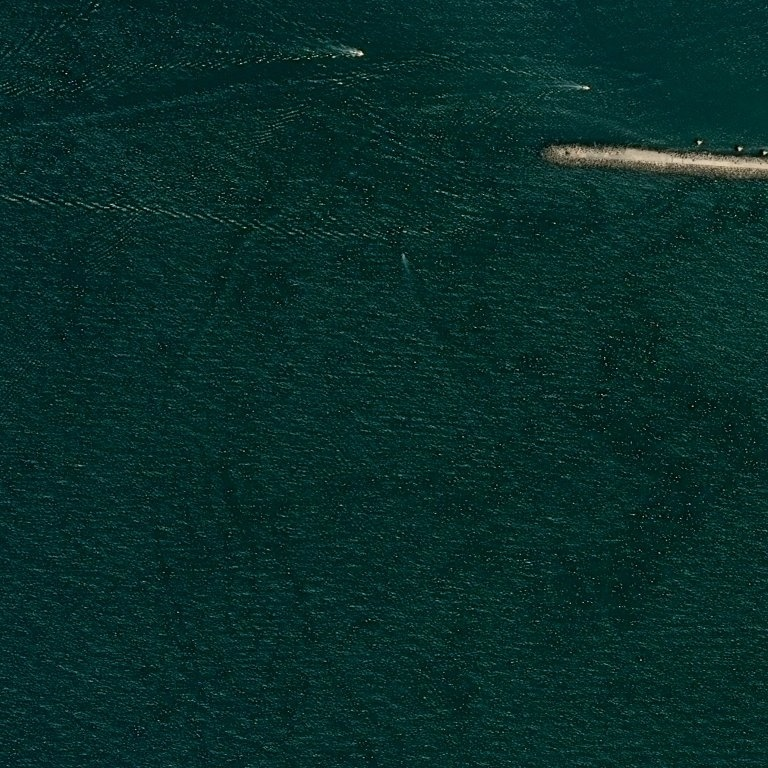ship: (578, 81, 591, 94), (354, 46, 366, 59)
